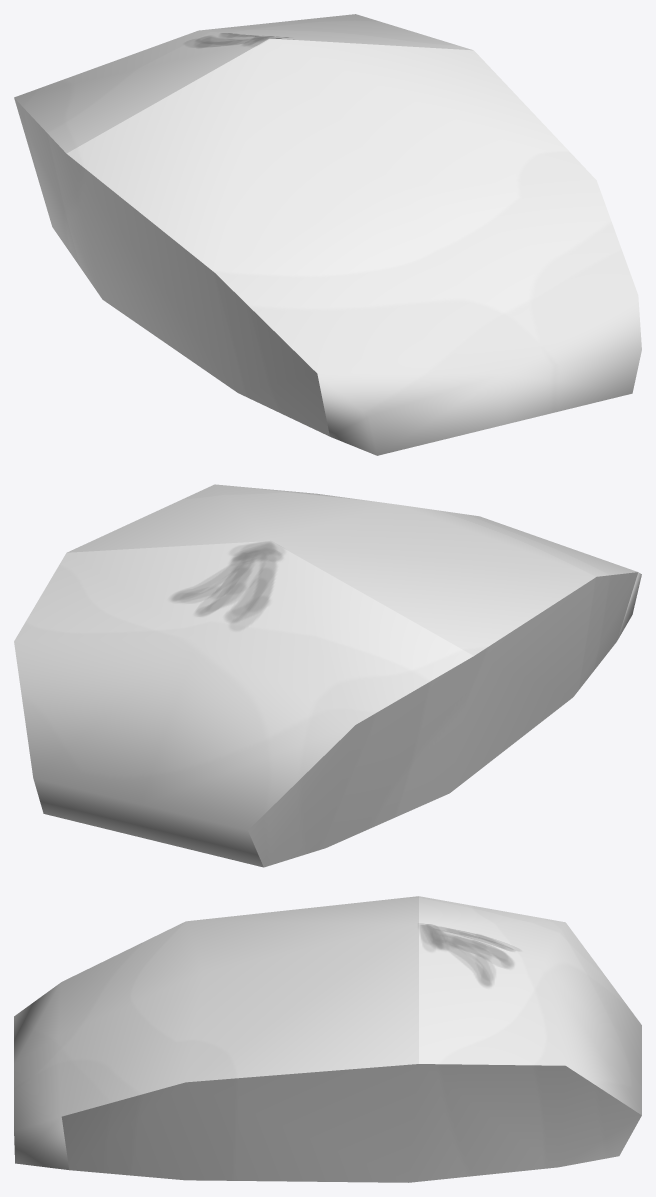
Rendered from mouse.FBX.
The picture shows the model from 3 angles, top to bottom: view 1: azimuth 30°, elevation 25°; view 2: azimuth 150°, elevation 25°; view 3: azimuth 270°, elevation 25°; orthographic projection. The views are drawn at different scales.
Visible parts, largest first — view 1: mac003; view 2: mac003; view 3: mac003.
Part boxes in pixels (x1,y1,x2,y2): mac003: (14, 14, 641, 455); mac003: (14, 484, 641, 867); mac003: (14, 896, 641, 1182).
Bounding box in the file's own units: 0.0788 × 0.0396 × 0.1222.
